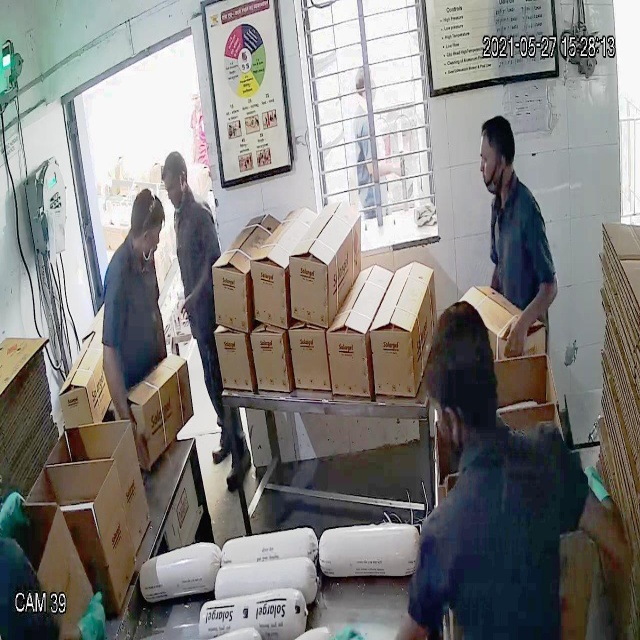Sin_gafas: (475, 151, 504, 172)
